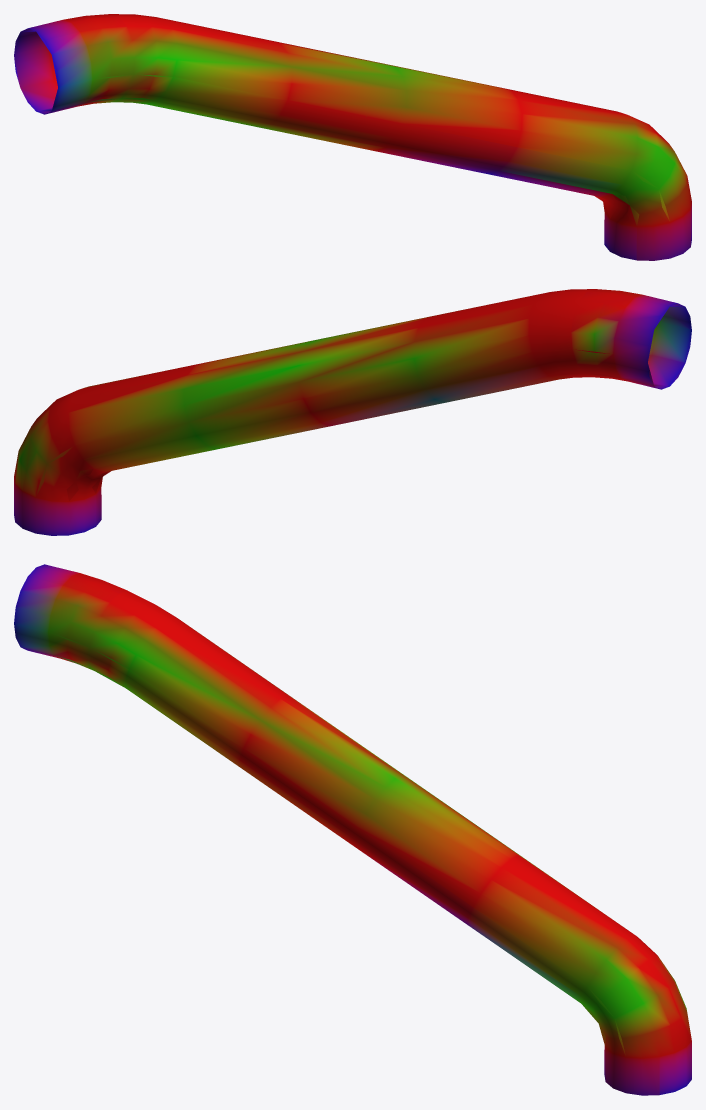
File: PipeA_B_8.fbx
3 renders of one model, top to bottom at view 1: azimuth 30°, elevation 25°; view 2: azimuth 150°, elevation 25°; view 3: azimuth 330°, elevation 25°, orthographic.
Parts seen in each view (by area): view 1: Plane, Plane.002; view 2: Plane, Plane.002; view 3: Plane.
Part boxes in pixels (box(x1,y1,x2,y2)): Plane: box(14, 14, 691, 260); Plane.002: box(14, 29, 669, 226); Plane: box(14, 289, 691, 535); Plane.002: box(36, 304, 691, 501); Plane: box(14, 564, 691, 1095).
Size of the model in its own units: 850 by 450 by 100.
